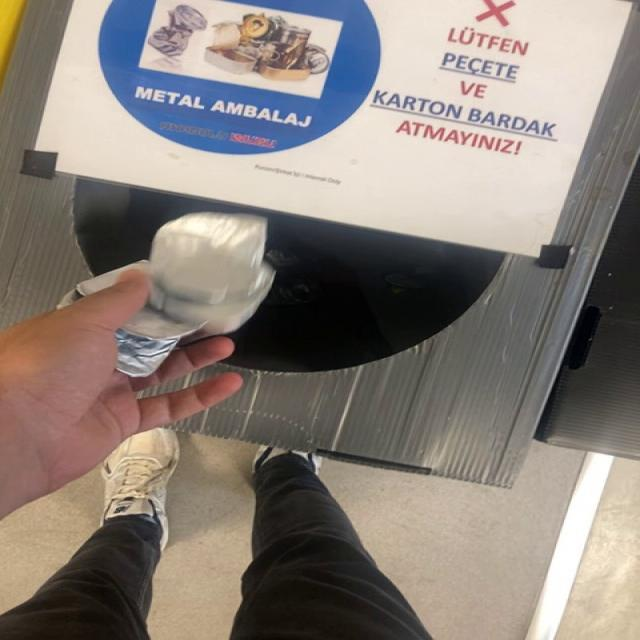Bin: (3, 0, 640, 488)
Metal: (149, 213, 267, 304)
